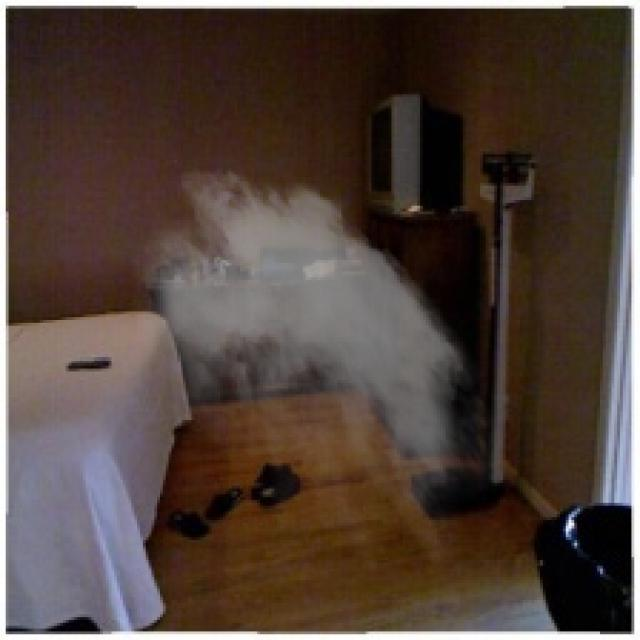Smoke: (114, 154, 512, 572)
